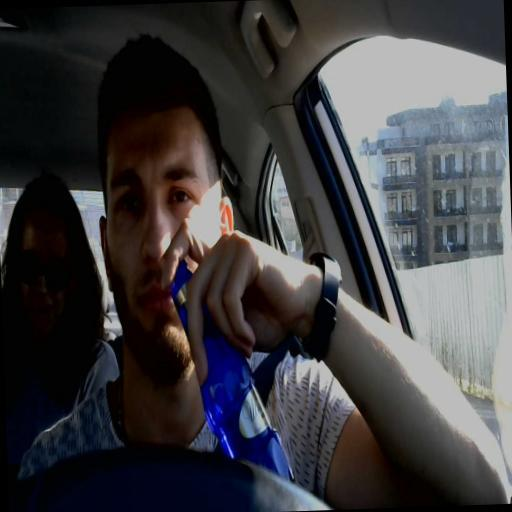Drinking: (98, 110, 274, 432)
